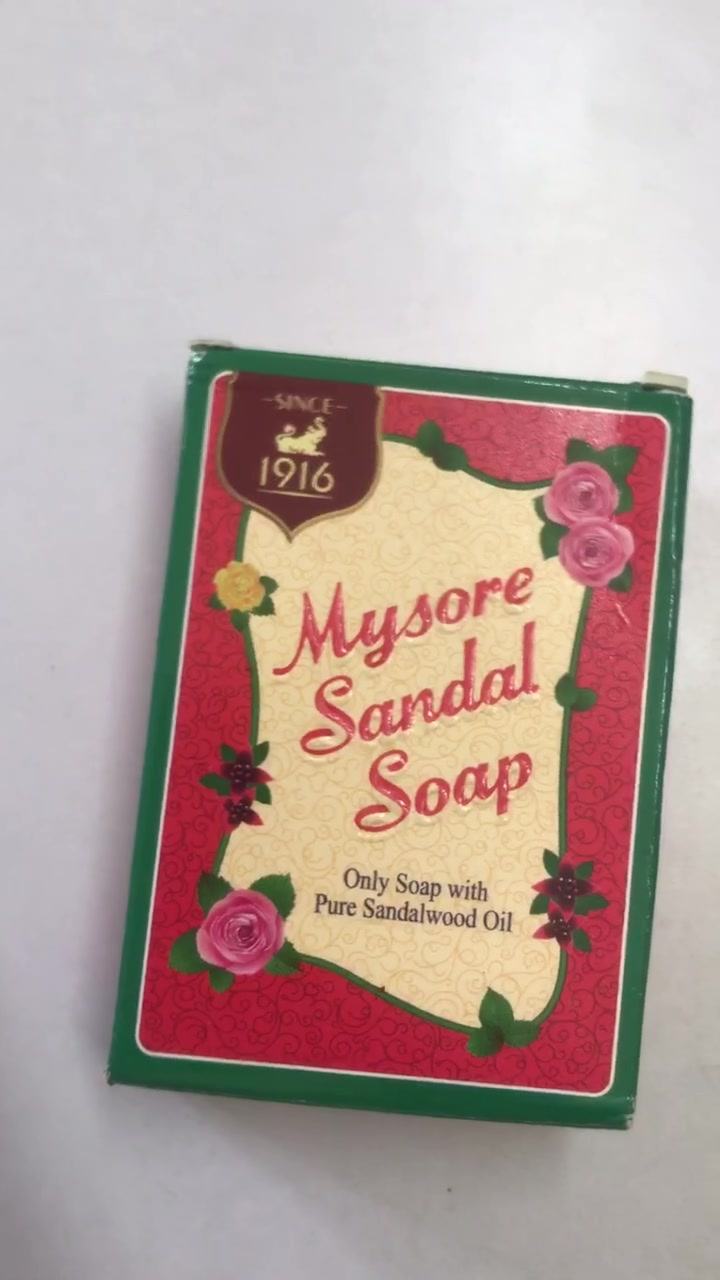mysore sandal soap: (102, 341, 694, 1131)
